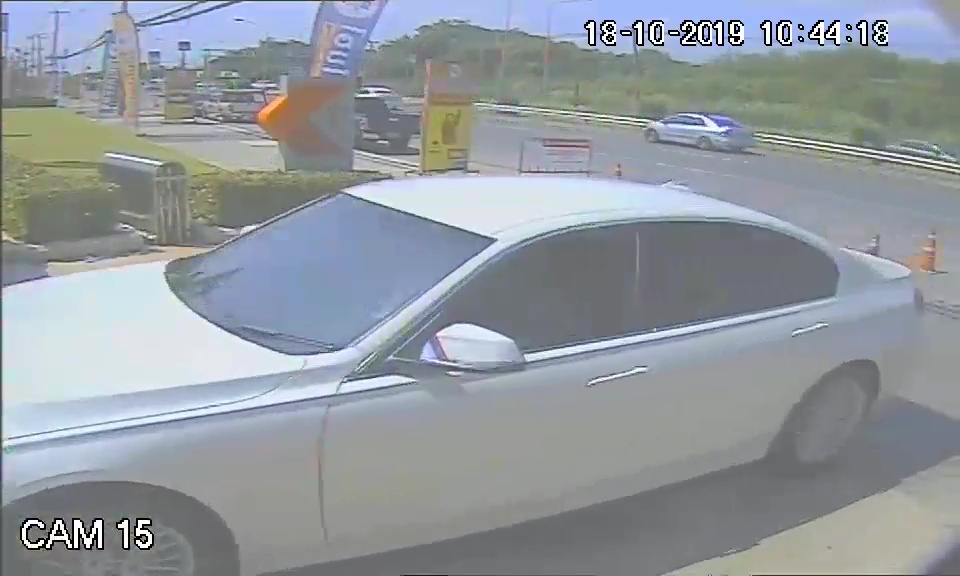sedan: (5, 167, 928, 532)
